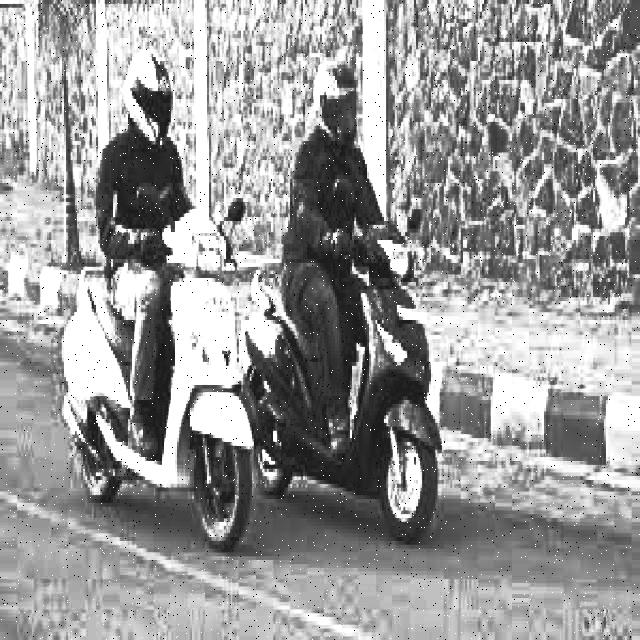Bike: (248, 194, 446, 529), (63, 182, 243, 550)
